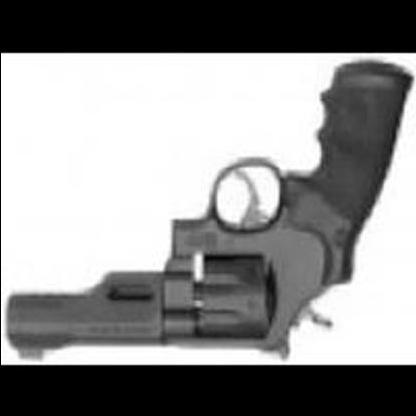weapon: (4, 59, 416, 363)
